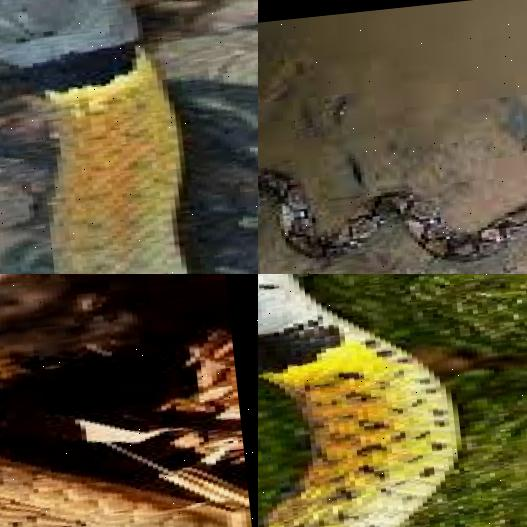snake: (0, 0, 258, 274), (0, 274, 258, 527), (258, 274, 485, 527), (258, 116, 527, 274)
